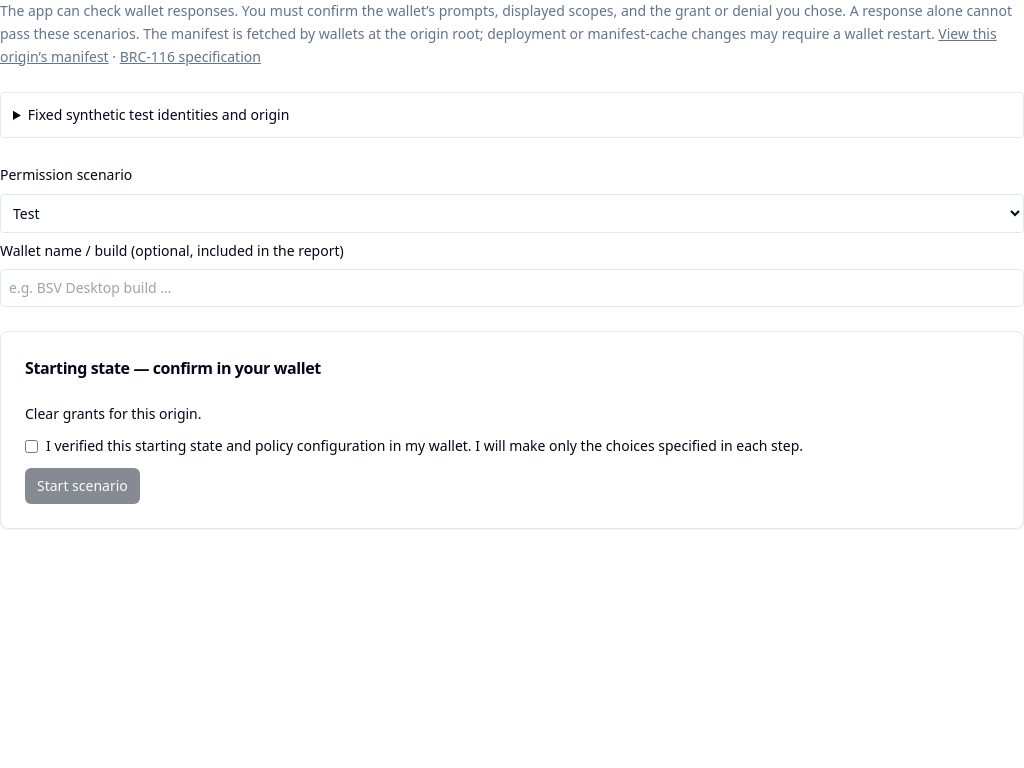
it: guided permission UI › requires verified starting state and a post-request human assertion before passing
Check: the button "Start scenario" is disabled, box x1=25 y1=468 x2=140 y2=504
Click the checkbox.
click(32, 447)  # box x1=25 y1=440 x2=38 y2=453
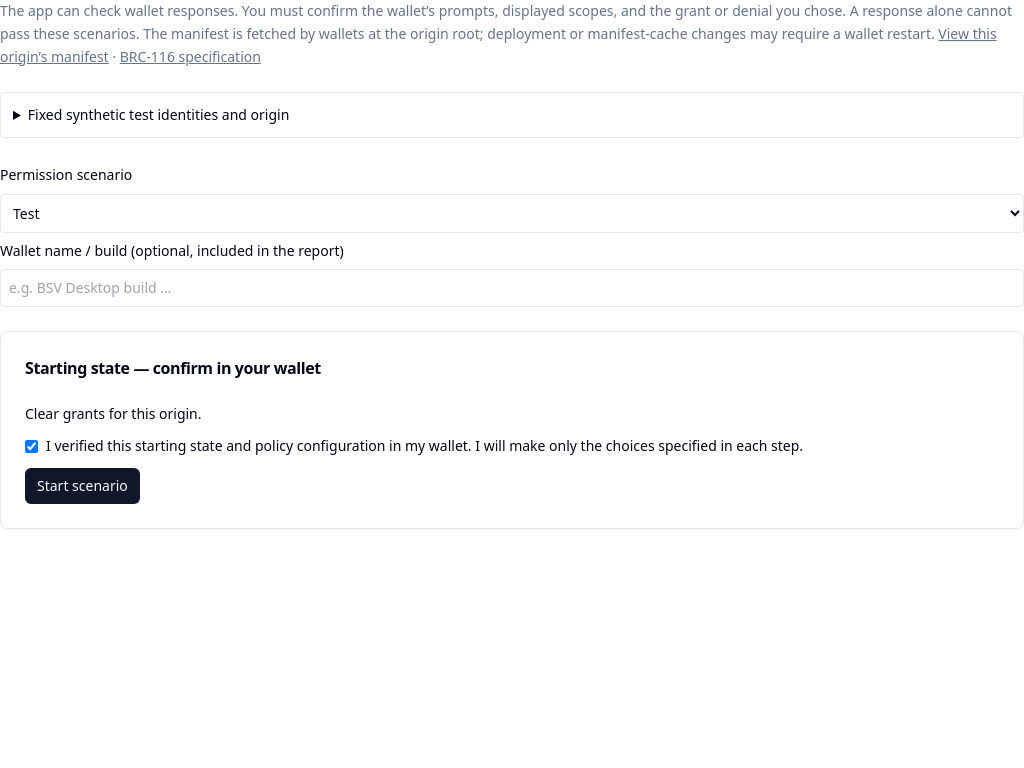
Click the button "Start scenario".
click(82, 486)  # box x1=25 y1=468 x2=140 y2=504
(page scrolled)
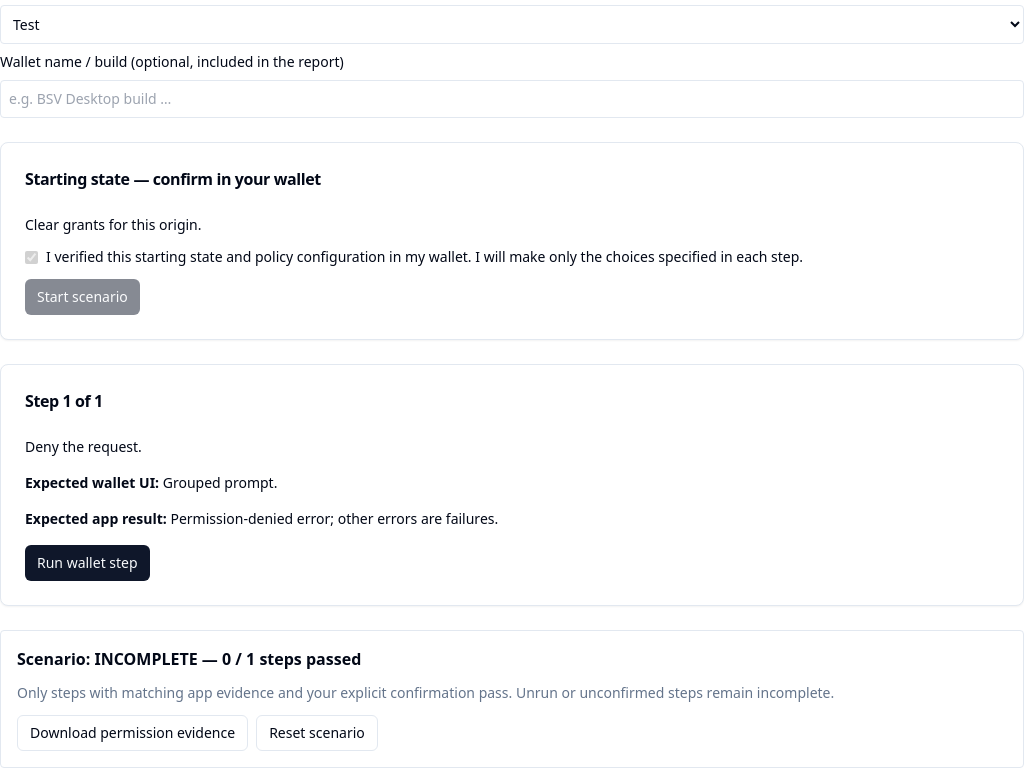
Click the button "Run wallet step".
click(87, 563)  # box x1=25 y1=545 x2=150 y2=581
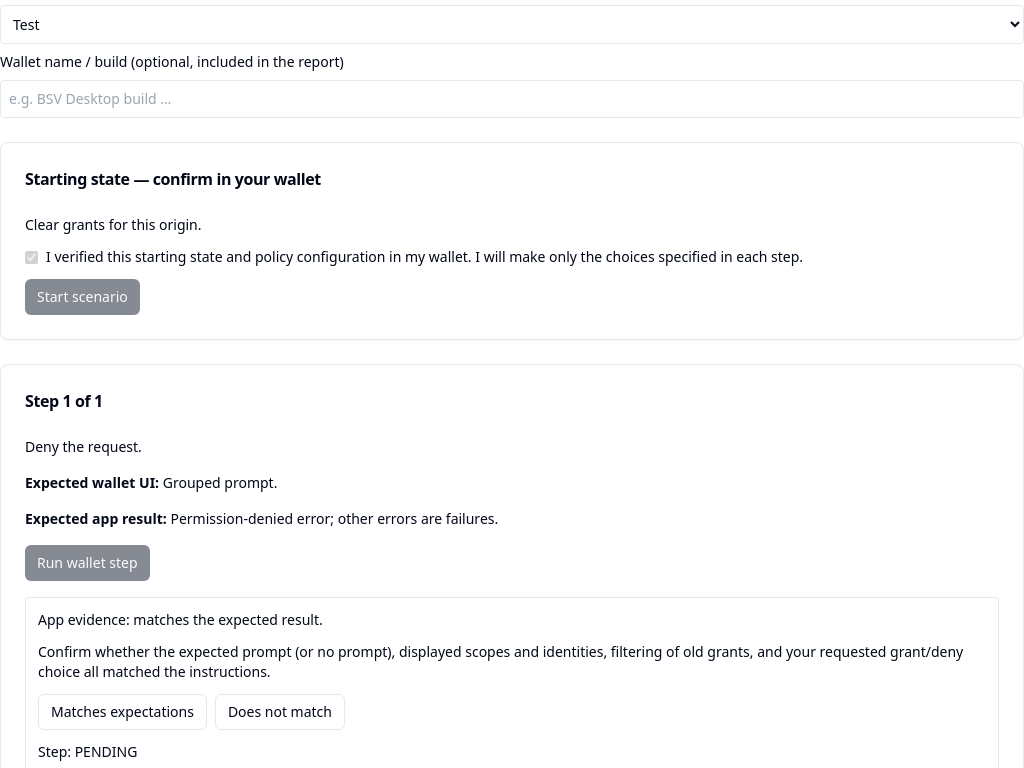
Check: the text "Step: PENDING" is shown, box x1=38 y1=742 x2=137 y2=761
Click the button "Matches expectations".
click(122, 712)  # box x1=38 y1=694 x2=207 y2=730
(page scrolled)
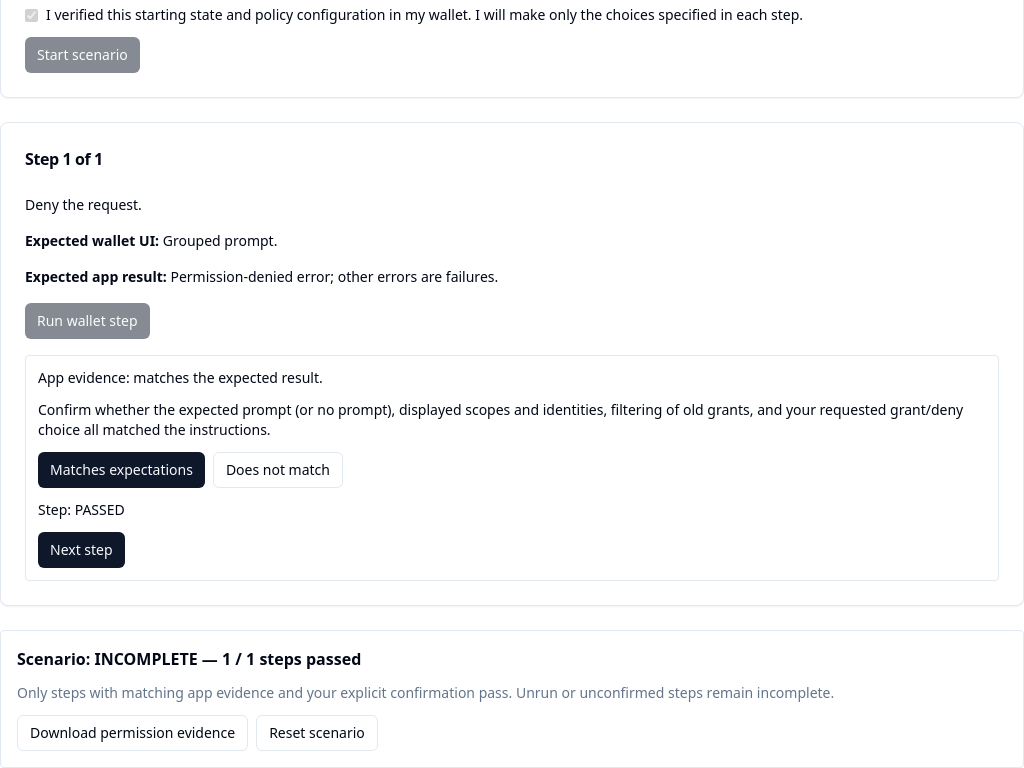
Click the button "Next step".
click(81, 550)  # box x1=38 y1=532 x2=125 y2=568
(page scrolled)
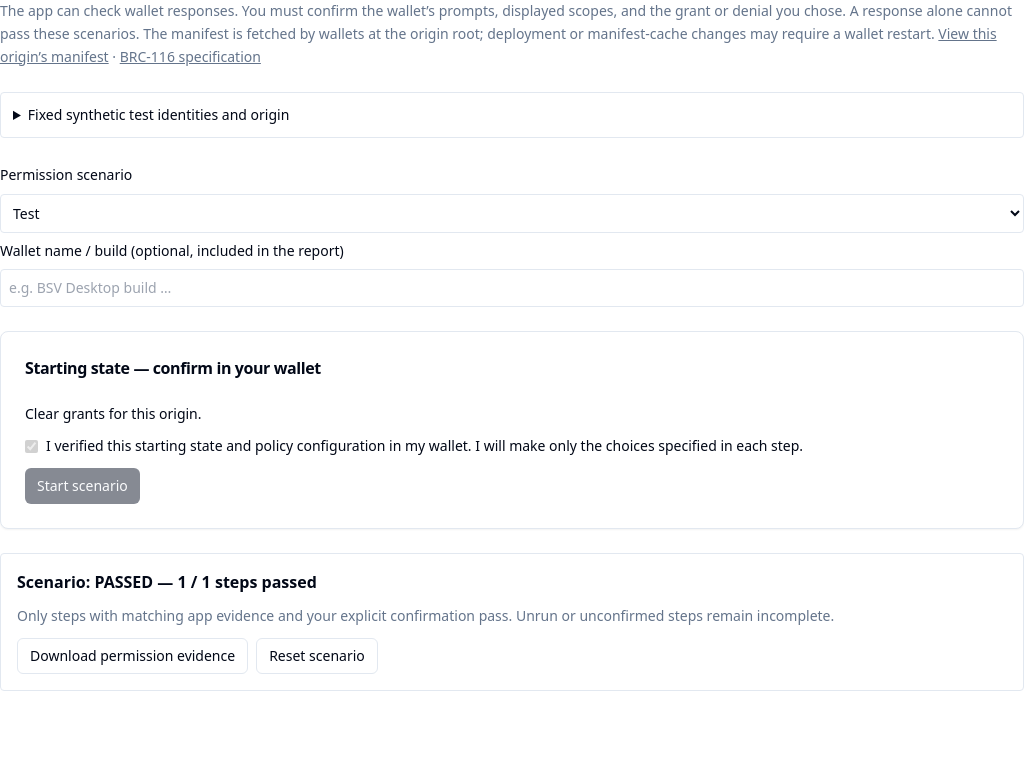
Check: the text "Scenario: PASSED — 1 / 1 steps passed" is shown, box x1=17 y1=571 x2=317 y2=593
